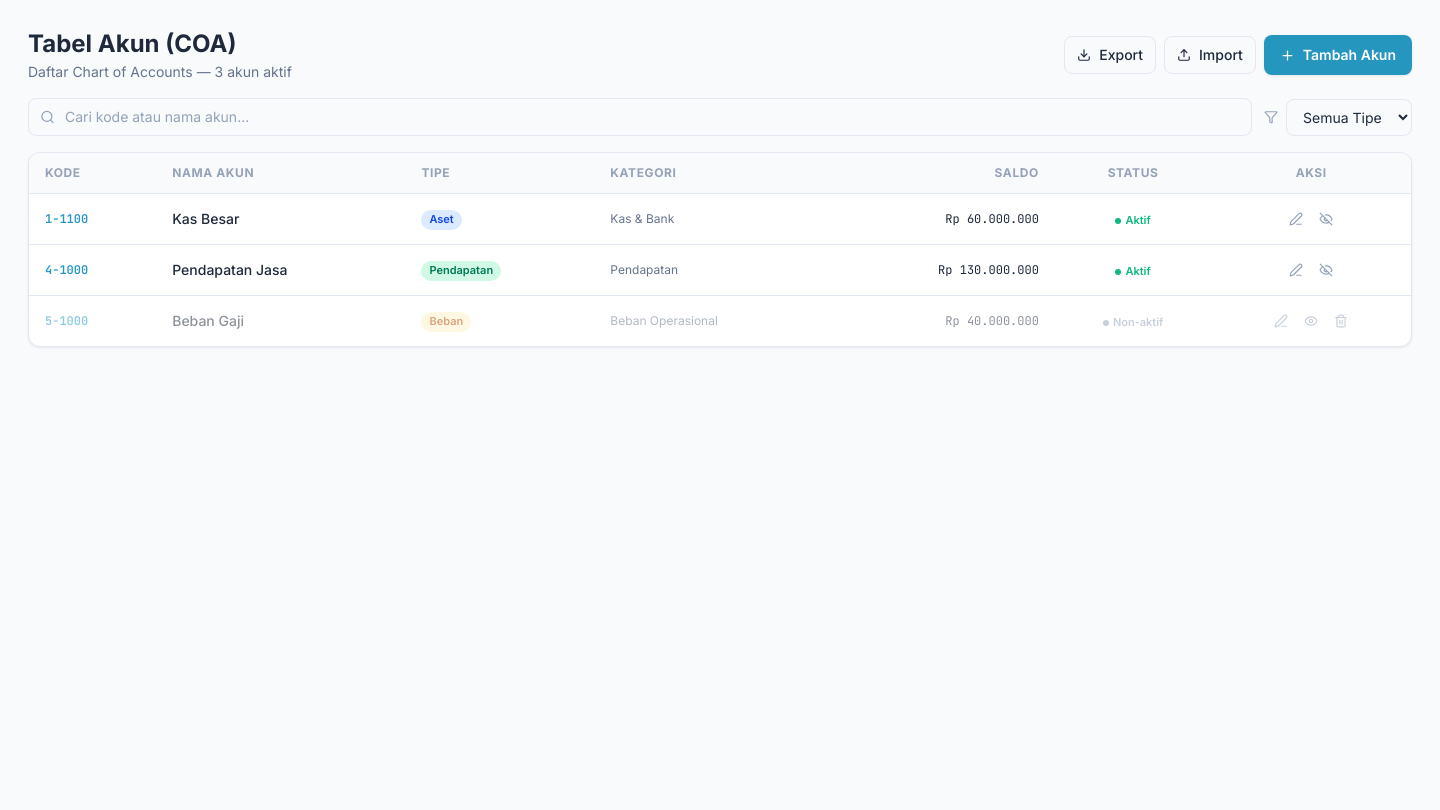
it: AccountsPage › tombol Tambah Akun membuka dialog
Expected: the text "Kas Besar" is shown, [156,194,405,244]
Click the button "Tambah Akun": click(1338, 55) [1264,35,1412,75]
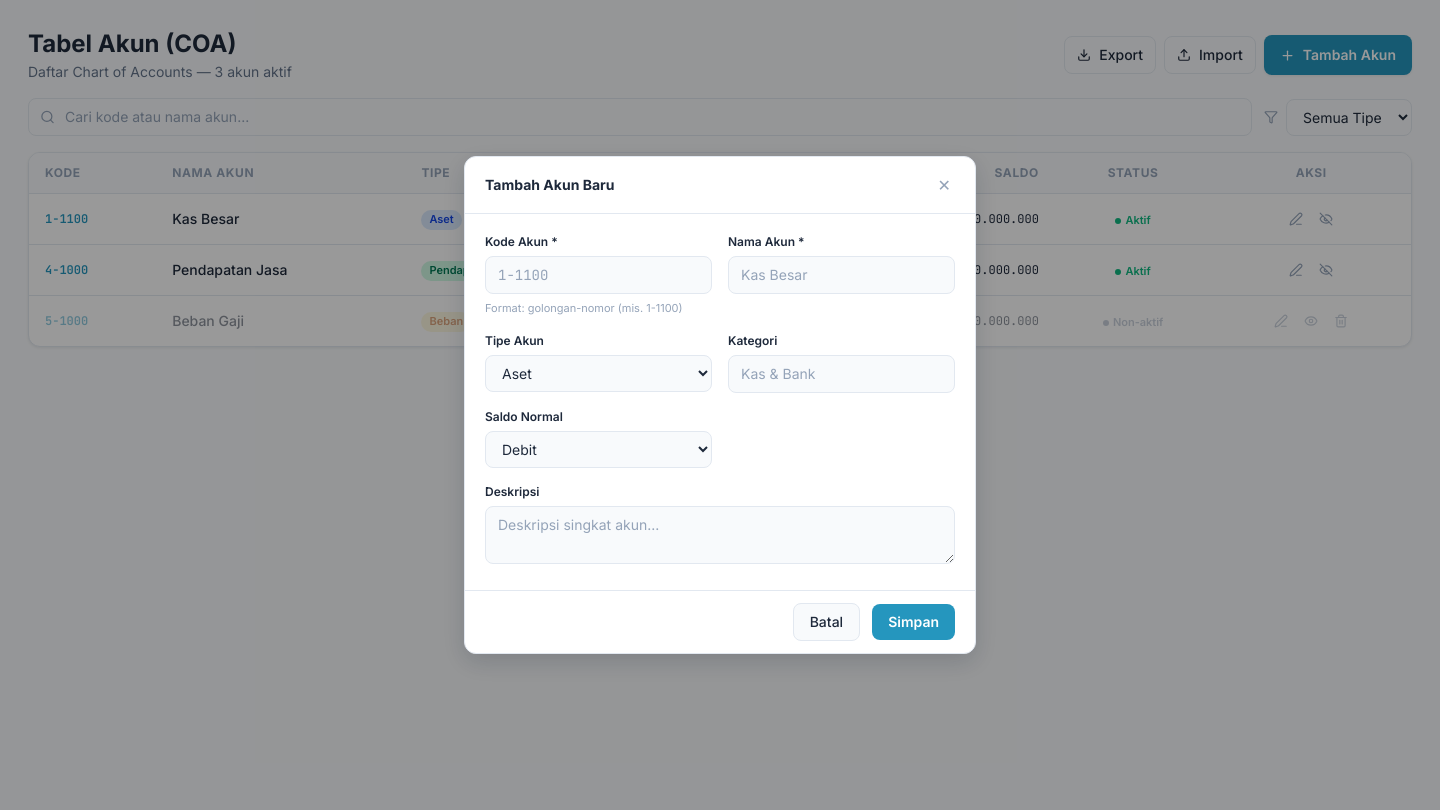
Result: the heading "Tambah Akun Baru" is shown at [485,175,614,195]
Result: the field labelled "Kode Akun *" is shown at [485,256,712,294]
